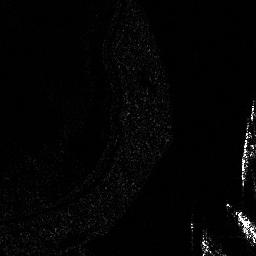ship: (226, 202, 256, 244)
